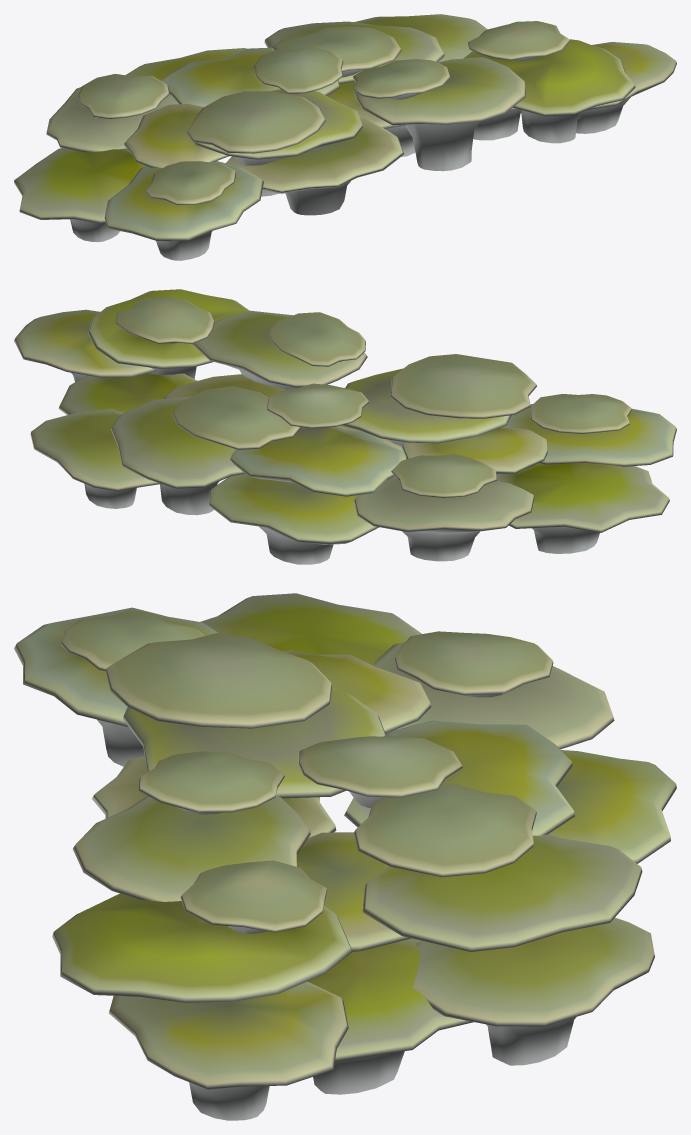
3 views of the same model, one above another, from view 1: azimuth 30°, elevation 25°; view 2: azimuth 150°, elevation 25°; view 3: azimuth 270°, elevation 25° (orthographic). The views are drawn at different scales.
Parts seen in each view (by area): view 1: G:\FFXIV-MapTools\exports\e3f1\bg\ex2\02_est_e3\fld\e3f1\bgp (×4); view 2: G:\FFXIV-MapTools\exports\e3f1\bg\ex2\02_est_e3\fld\e3f1\bgp (×4); view 3: G:\FFXIV-MapTools\exports\e3f1\bg\ex2\02_est_e3\fld\e3f1\bgp (×4).
Part boxes in pixels (x1,y1,x2,y2): G:\FFXIV-MapTools\exports\e3f1\bg\ex2\02_est_e3\fld\e3f1\bgp (×4): (14,14,676,260); G:\FFXIV-MapTools\exports\e3f1\bg\ex2\02_est_e3\fld\e3f1\bgp (×4): (14,289,676,564); G:\FFXIV-MapTools\exports\e3f1\bg\ex2\02_est_e3\fld\e3f1\bgp (×4): (14,593,676,1120).
Bounding box in the file's own units: 87.12 × 16.2 × 47.69.
